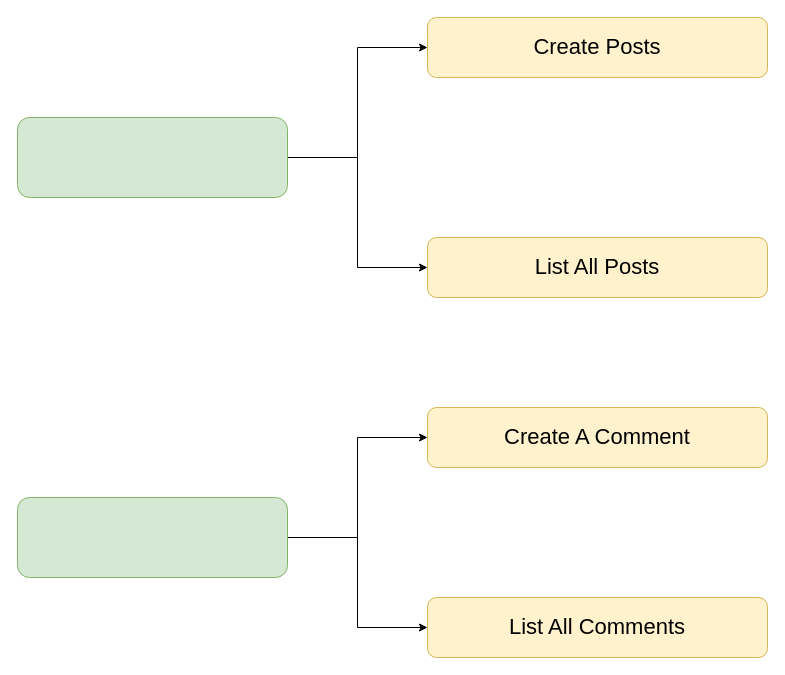
This 785x675 diagram has some shape labels left out. Here are the shapes that lost their labels. From the top down, the box of each, then its label:
(16, 116, 288, 198): Post Service
(16, 496, 288, 578): Comment Service
